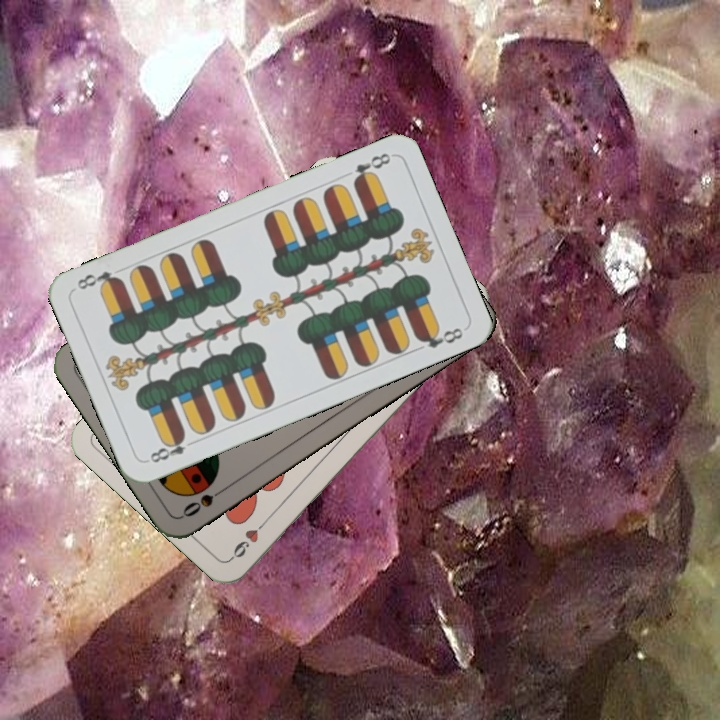E8: (146, 430, 200, 466), (348, 149, 394, 187)
H9: (226, 514, 271, 562)
SO: (178, 482, 231, 520)
